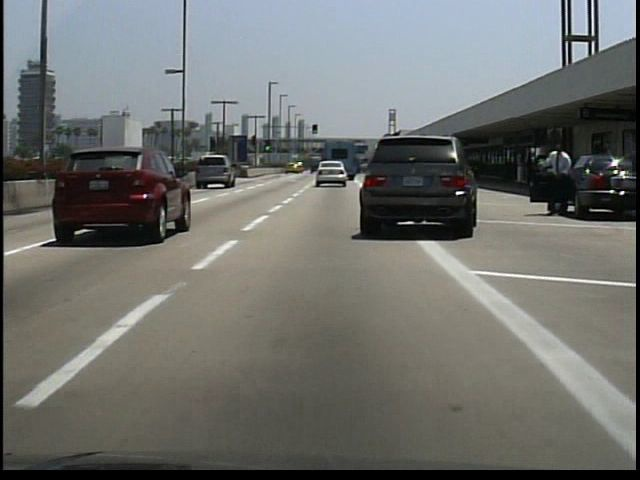person: (534, 139, 573, 220)
